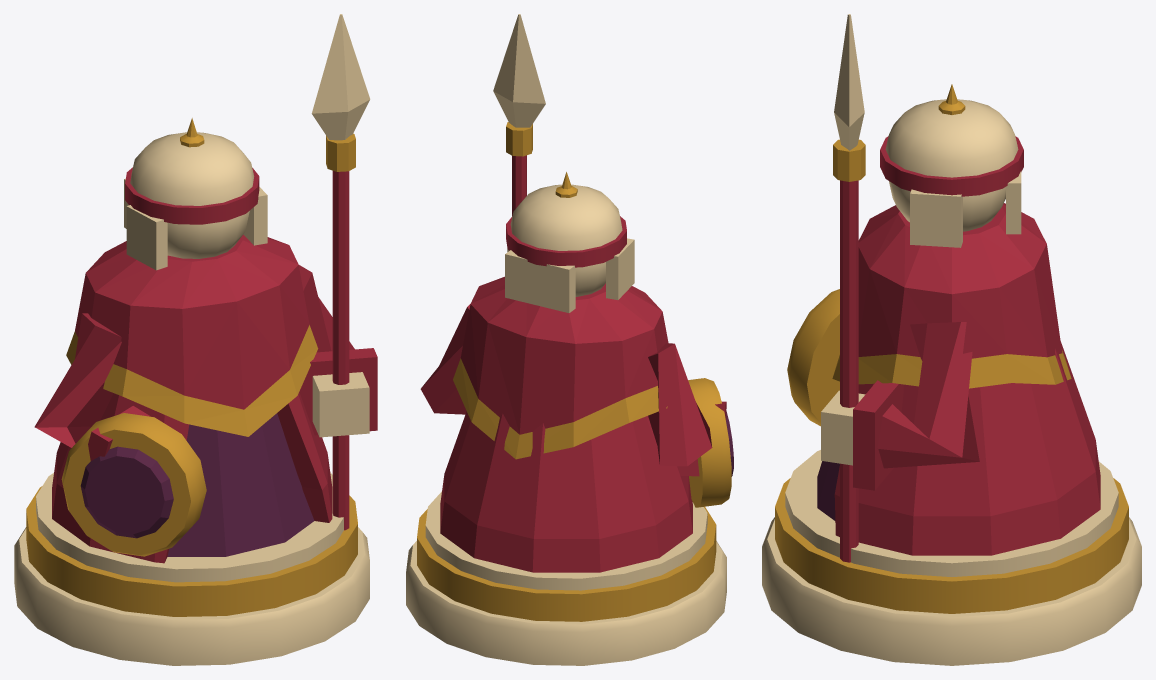
File: spearman.glb
3 views of the same model, side by side, from view 1: azimuth 30°, elevation 25°; view 2: azimuth 150°, elevation 25°; view 3: azimuth 270°, elevation 25° (orthographic). The views are drawn at different scales.
Parts seen in each view (by area): view 1: spearman; view 2: spearman; view 3: spearman.
Boxes of the visible parts, x1,y1,x2,y2 form: spearman: (14,14,377,665); spearman: (406,14,733,665); spearman: (762,14,1141,665).
Bounding box in the file's own units: 0.7551 × 1.34 × 0.74.
